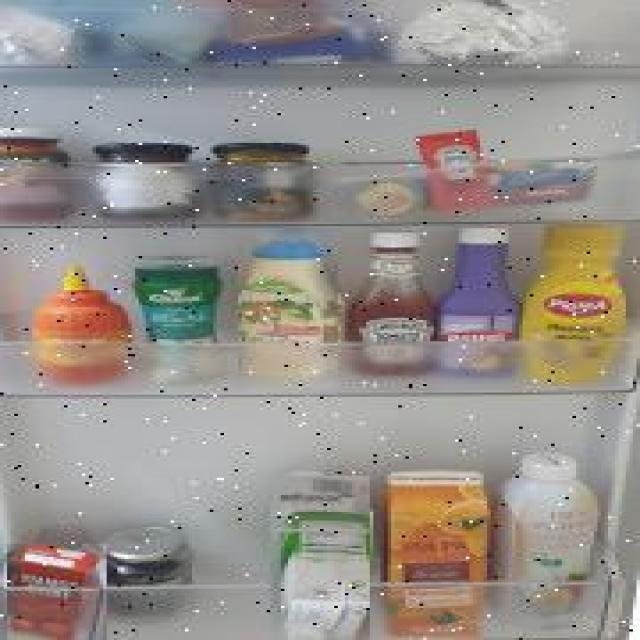mayonaise: (240, 228, 340, 388)
milk: (272, 475, 371, 640)
tomato_sauce: (9, 544, 108, 640)
